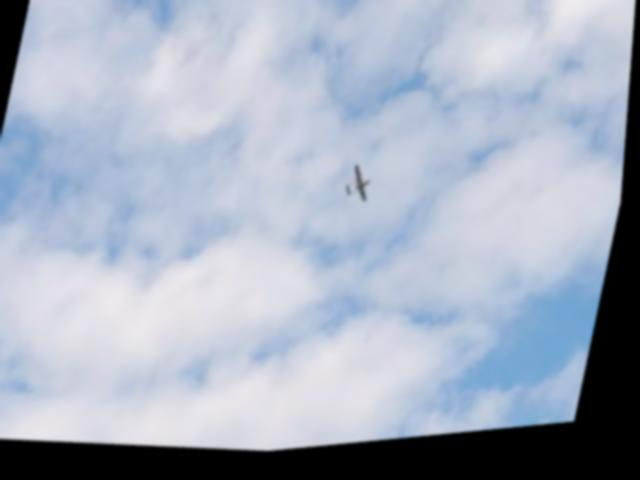uav: (344, 165, 380, 215)
